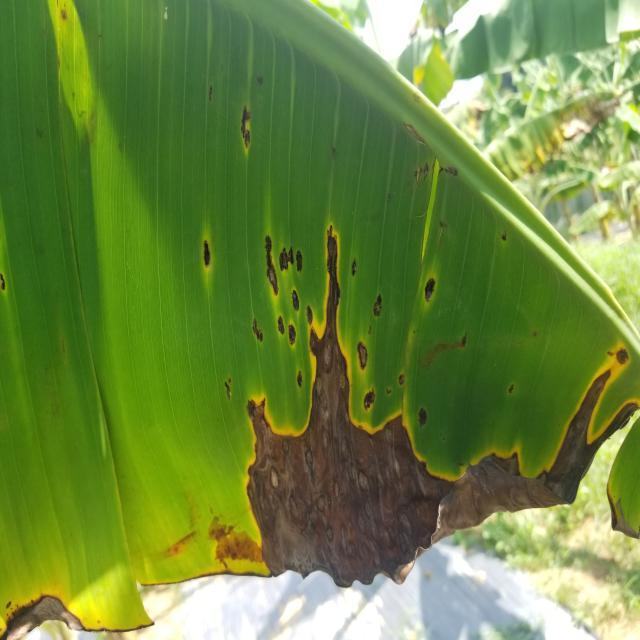Early_rust: (186, 44, 640, 592), (478, 48, 636, 206), (0, 510, 171, 635), (395, 16, 445, 122)
